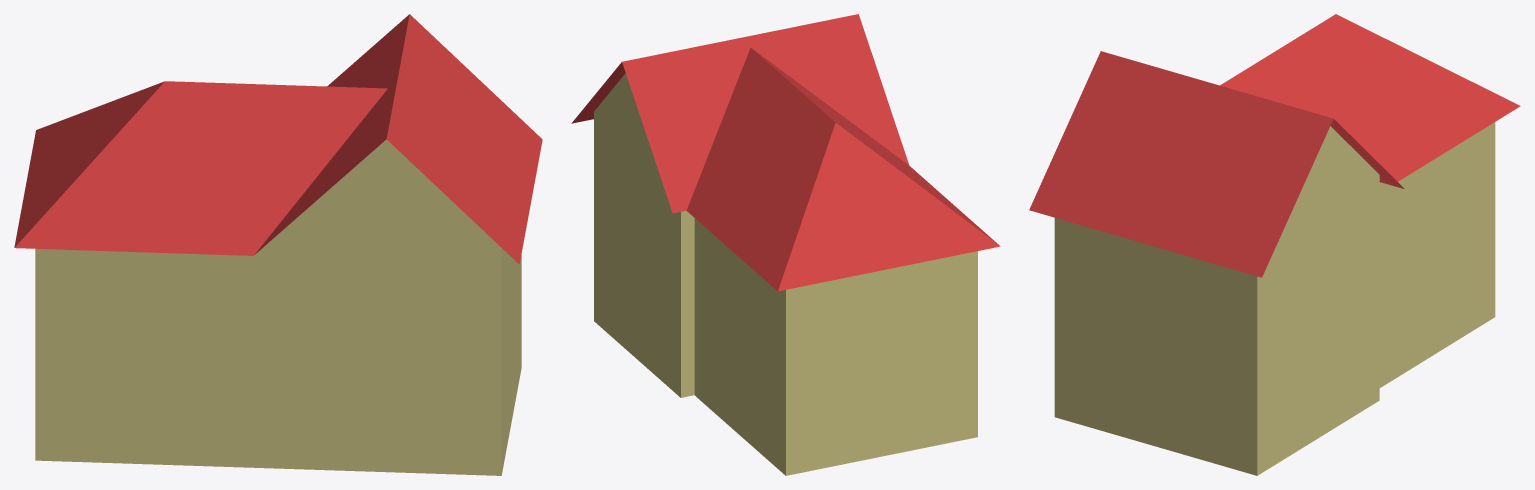
The picture shows the model from 3 angles, left to right: view 1: azimuth 30°, elevation 25°; view 2: azimuth 150°, elevation 25°; view 3: azimuth 270°, elevation 25°; orthographic projection. The views are drawn at different scales.
Parts seen in each view (by area): view 1: group_10, group_6, group_3, group_8, group_5, group_9; view 2: group_6, group_3, group_10, group_8, group_5, group_9; view 3: group_10, group_8, group_6, group_3, group_9, group_5.
Part boxes in pixels (<box>): group_10: <box>273,139,521,475</box>; group_6: <box>35,239,273,468</box>; group_3: <box>14,81,387,255</box>; group_8: <box>254,14,542,264</box>; group_5: <box>14,123,270,255</box>; group_9: <box>256,17,541,258</box>; group_6: <box>695,218,977,475</box>; group_3: <box>686,47,999,291</box>; group_10: <box>594,73,694,397</box>; group_8: <box>571,14,908,212</box>; group_5: <box>697,157,1000,290</box>; group_9: <box>572,14,908,213</box>; group_10: <box>1054,126,1379,475</box>; group_8: <box>1029,51,1404,277</box>; group_6: <box>1379,122,1495,387</box>; group_3: <box>1220,14,1520,182</box>; group_9: <box>1029,51,1400,277</box>; group_5: <box>1400,94,1519,179</box>.
Size of the model in its own units: 22.6 by 19.96 by 14.51.
